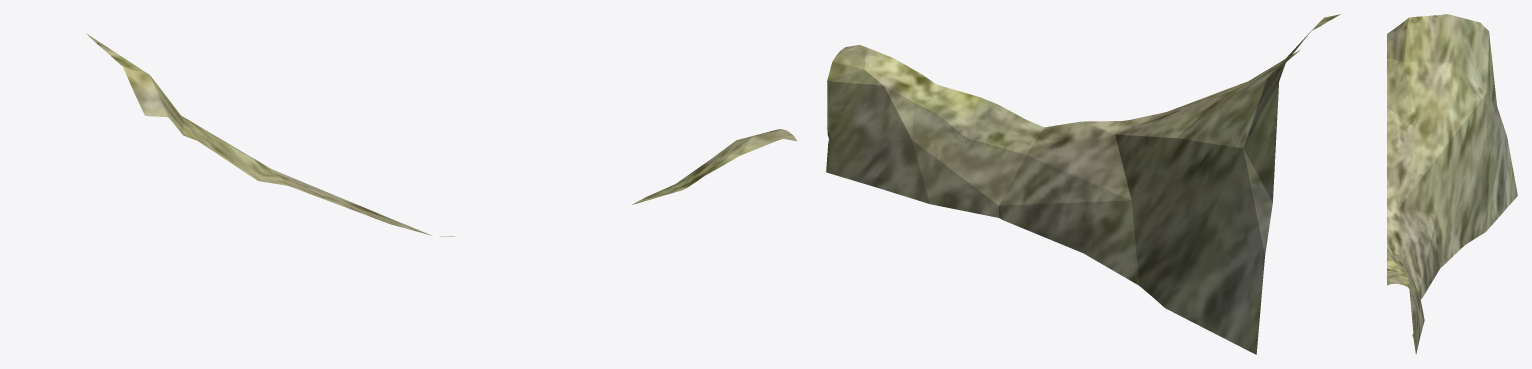
The picture shows the model from 3 angles, left to right: view 1: azimuth 30°, elevation 25°; view 2: azimuth 150°, elevation 25°; view 3: azimuth 270°, elevation 25°; orthographic projection. The views are drawn at different scales.
Size of the model in its own units: 2.95 by 1.57 by 1.02.
1 material, 1 textured.
